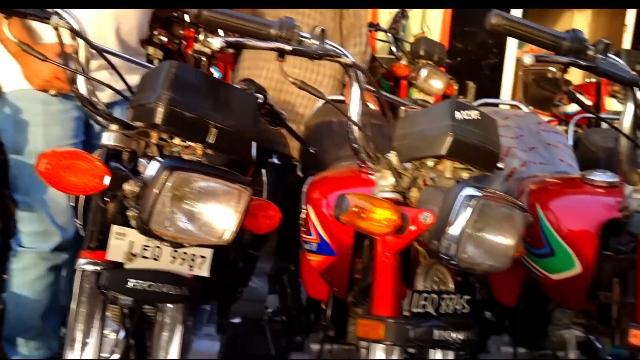plate: (106, 224, 213, 278), (404, 288, 481, 318)
